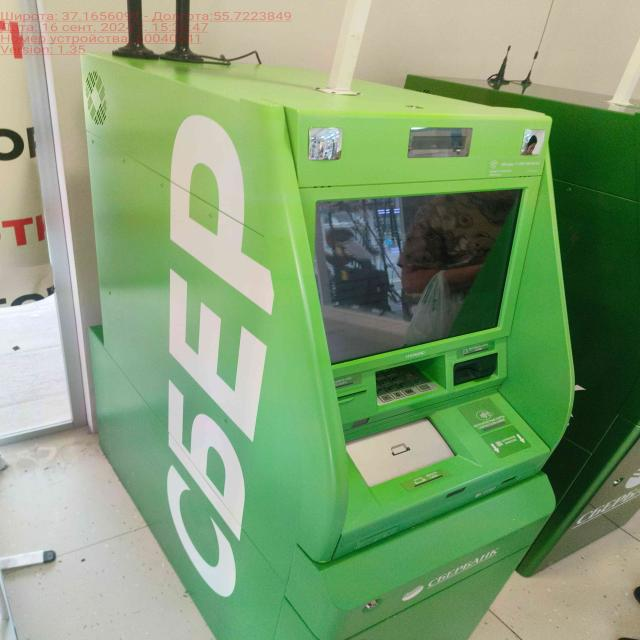bank: (72, 46, 581, 640), (398, 73, 640, 575)
